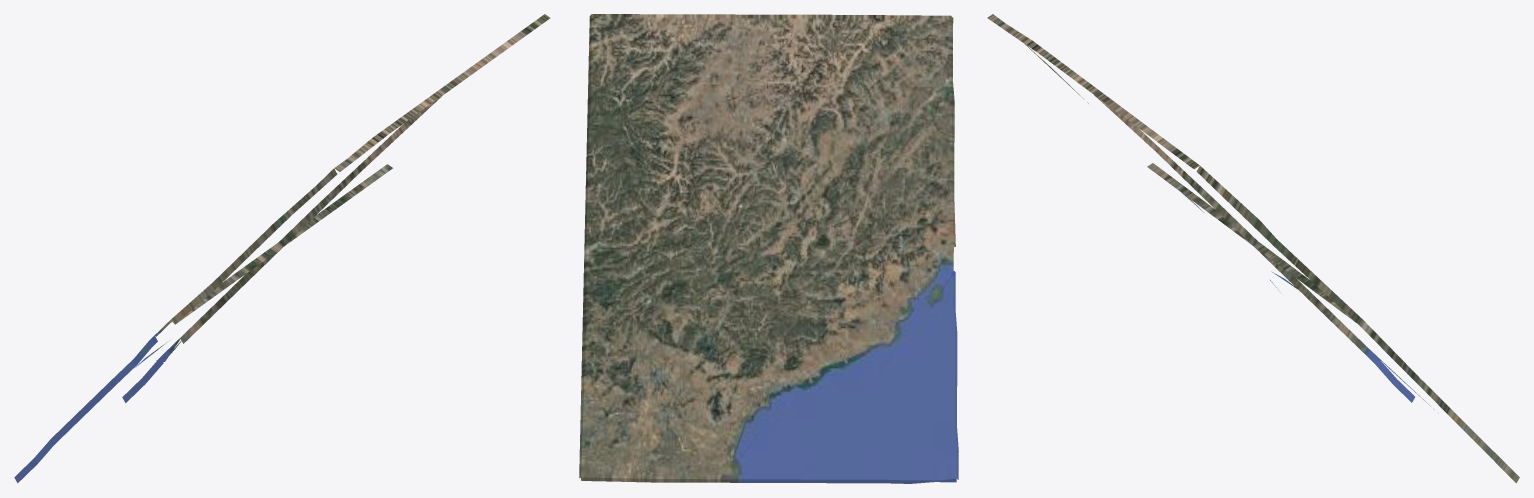
The picture shows the model from 3 angles, left to right: view 1: azimuth 30°, elevation 25°; view 2: azimuth 150°, elevation 25°; view 3: azimuth 270°, elevation 25°; orthographic projection. The views are drawn at different scales.
Size of the model in its own units: 310631 by 242062 by 298716.
1 material, 1 textured.
